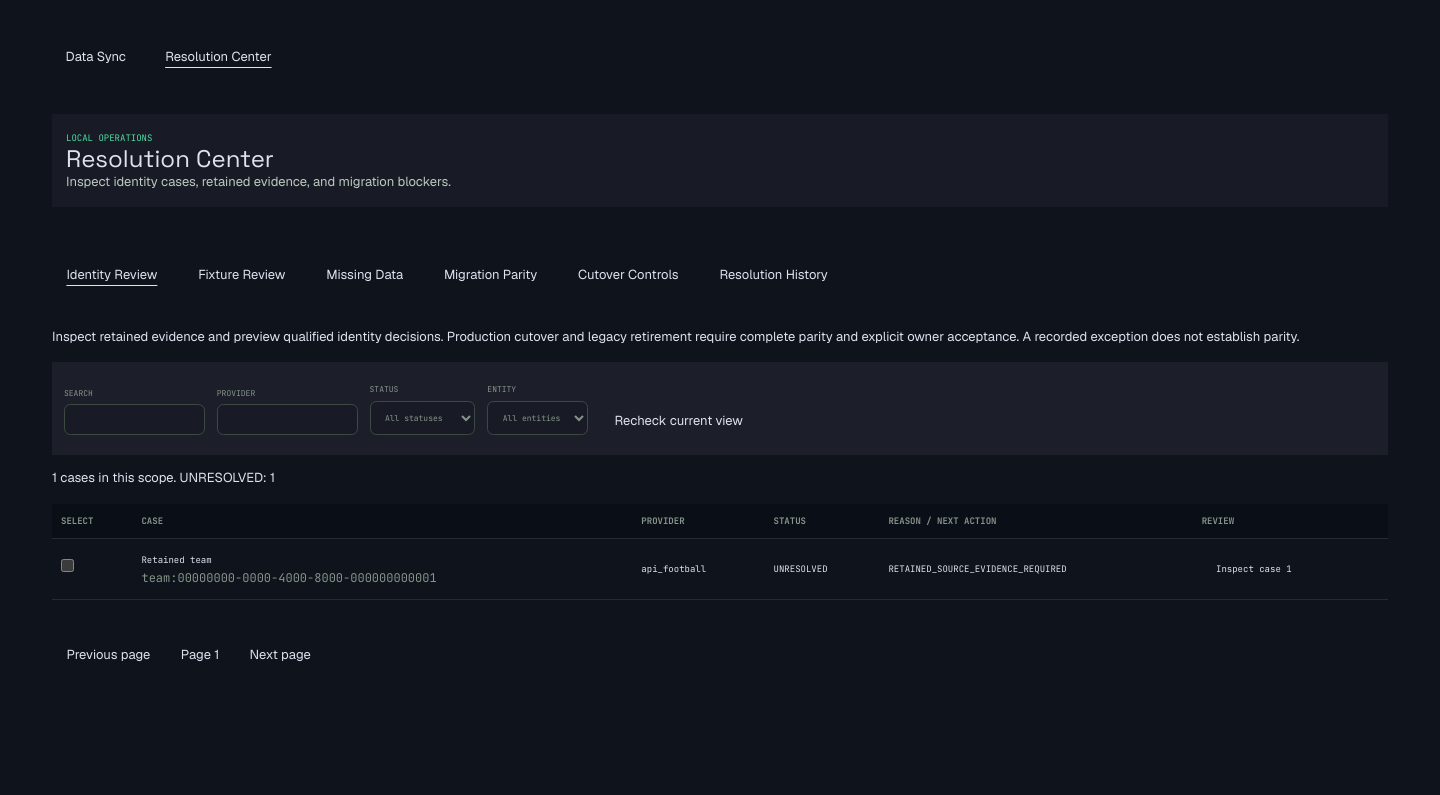
Test: Resolution Center › retains valid data during refresh failure, rejects malformed responses and allows retry
Expected: the text "Retained team" is shown, [142,554,212,566]
Click the button "Recheck current view".
click(679, 421)  # box [600,399,757,443]
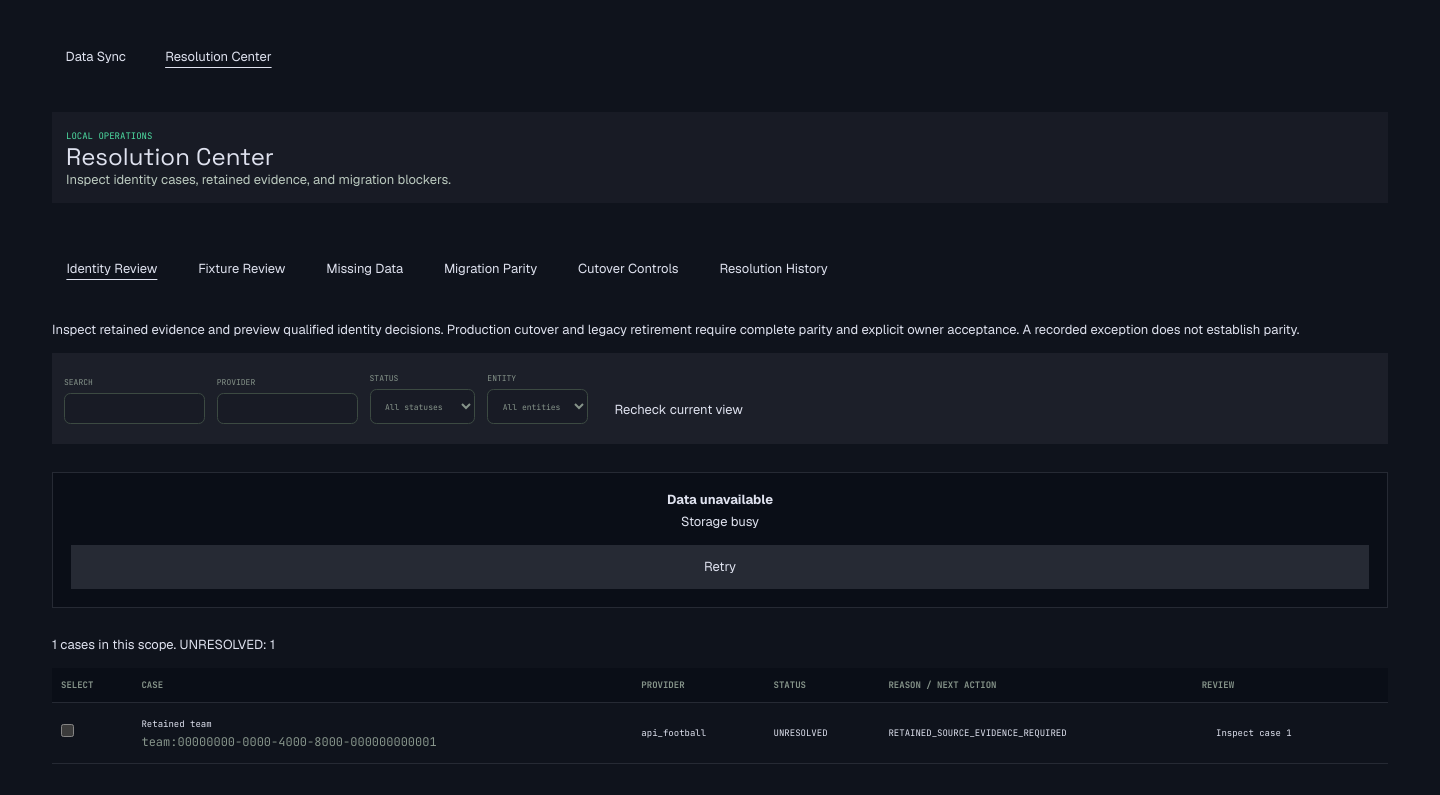
Expected: the text "Retained team" is shown, [142,718,212,730]
Expected: the text "Storage busy" is shown, [681,513,759,530]
Click the button "Retry".
click(720, 567)  # box [71,545,1369,589]
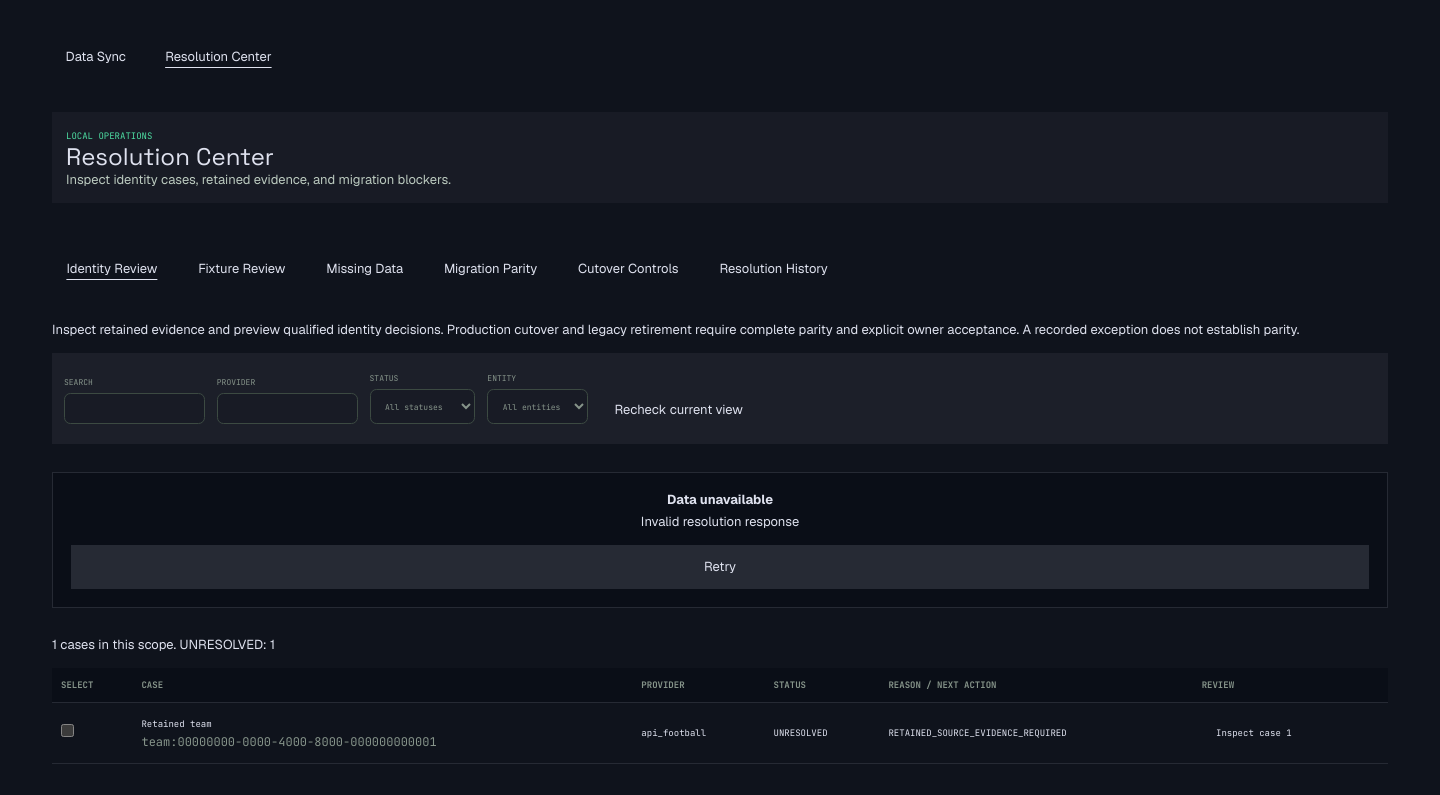
Expected: the message "Data unavailable Invalid resolution response Retry" is shown, [52,472,1388,608]
Expected: the text "Storage busy" is gone
Click the button "Retry".
click(720, 567)  # box [71,545,1369,589]
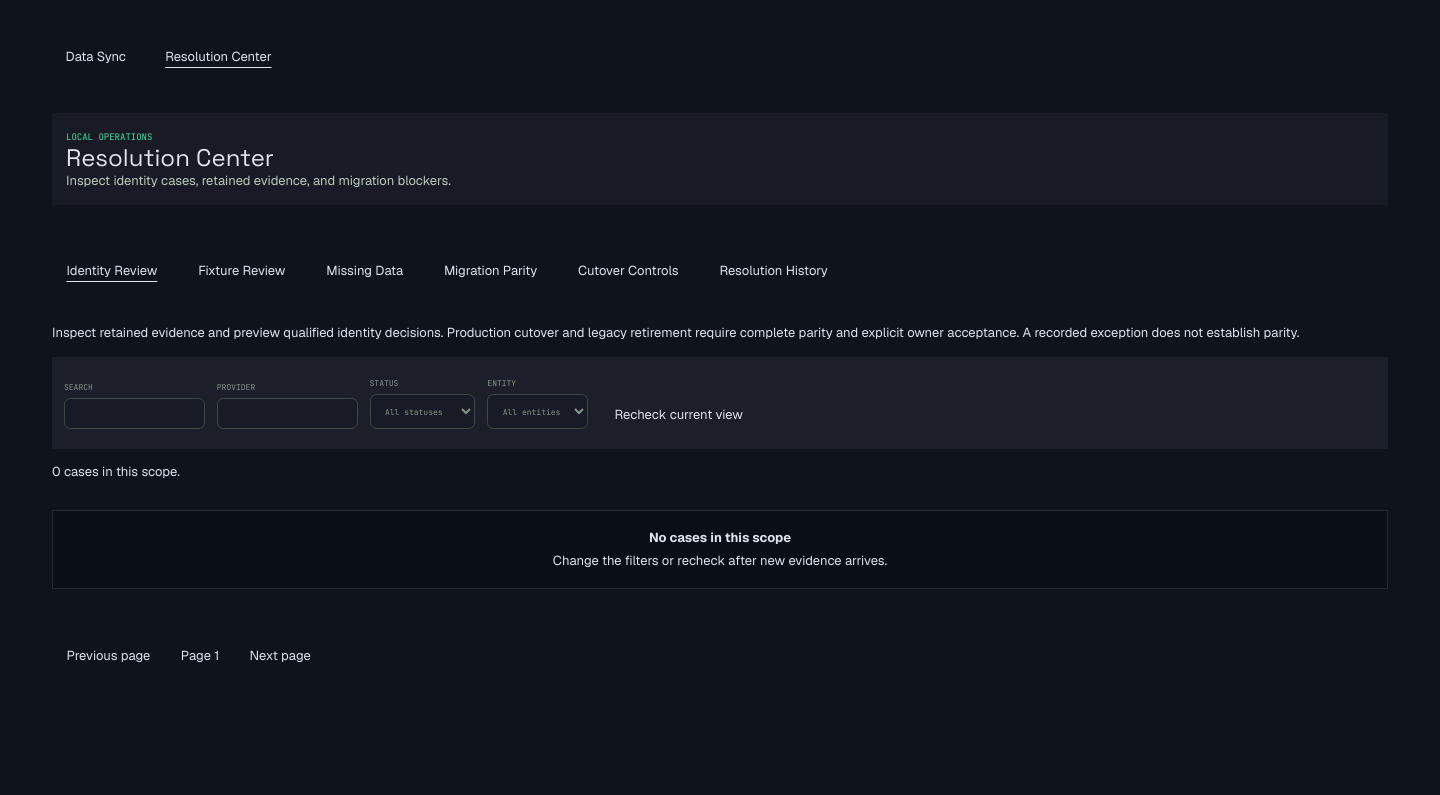
Expected: the text "No cases in this scope" is shown, [649,529,791,546]
